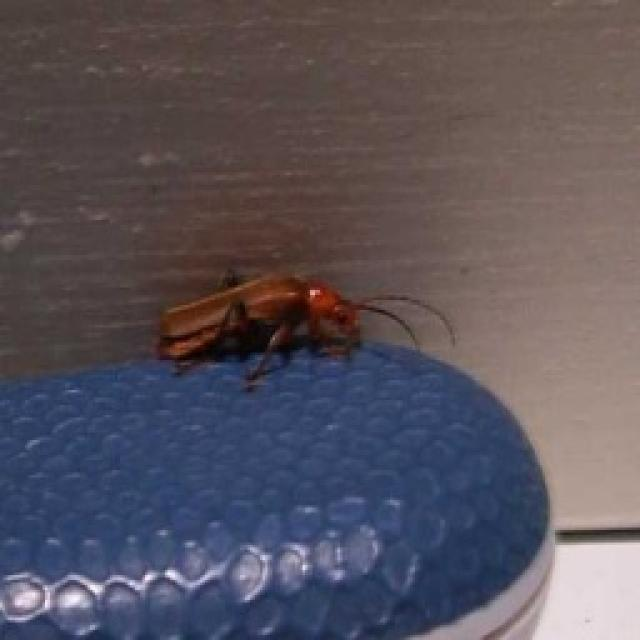cockroach: (149, 262, 461, 393)
